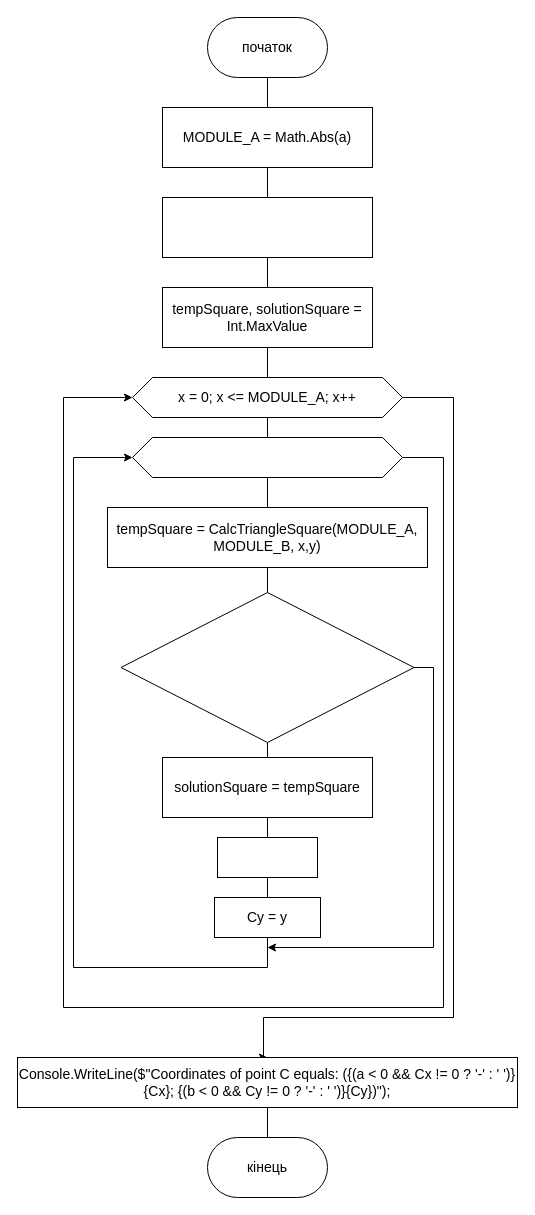
This 535x1215 diagram has some shape labels left out. The shapes that lost their labels are listed below. From the top down, each one's box as (x1, y1, x2, y2) in pixels, then its label:
(162, 196, 372, 258): MODULE_B = Math.Abs(B)
(132, 436, 402, 478): y = 0; y <= MODULE_B; y++
(120, 592, 414, 742): tempSquare != 0 && tempSquare < solutionSquare
(216, 836, 318, 878): Cx = x
